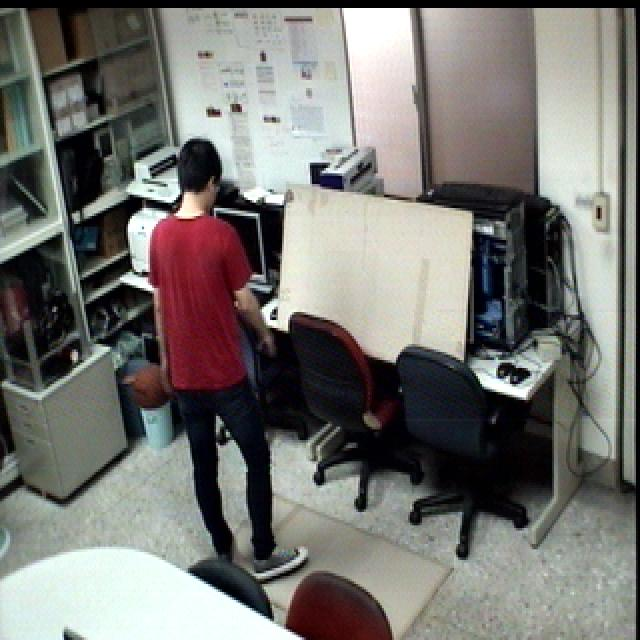stand: (146, 135, 314, 596)
